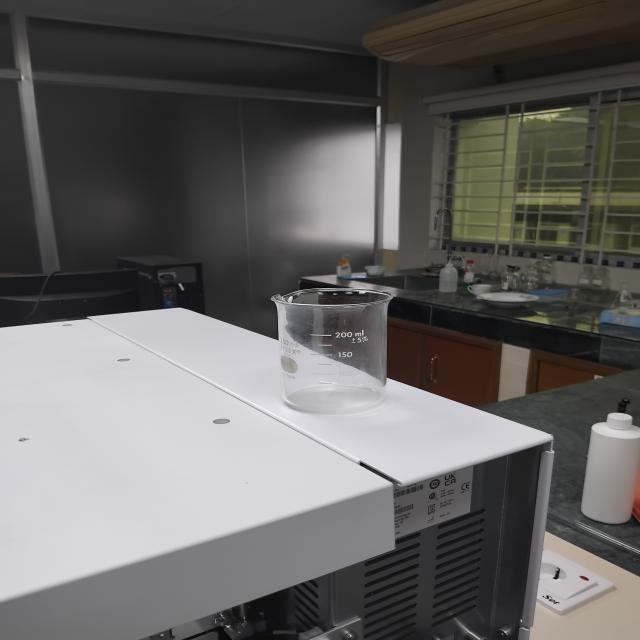Beaker: (232, 244, 432, 424)
